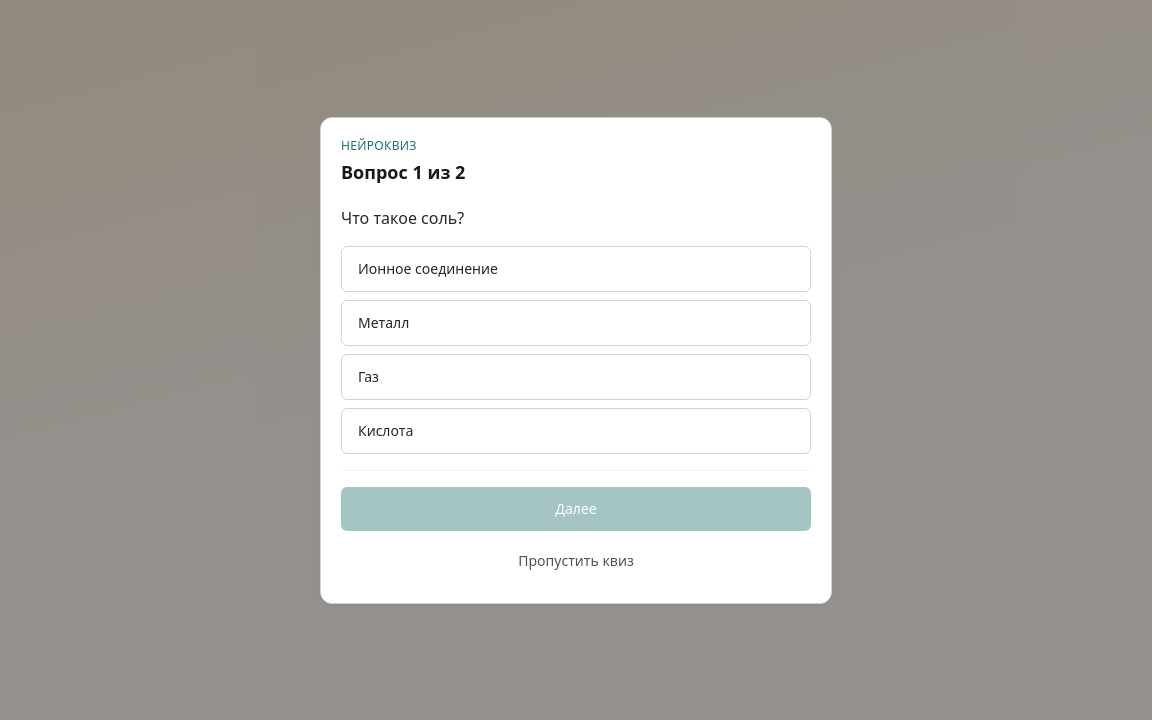
Scenario: NeuroQuizOverlay › shows correct option and explanation after a wrong answer without salute
Expected: the text "Что такое соль?" is shown, [341,206,464,228]
Click the button "Металл". click: (384, 322)
box: [341,300,811,346]
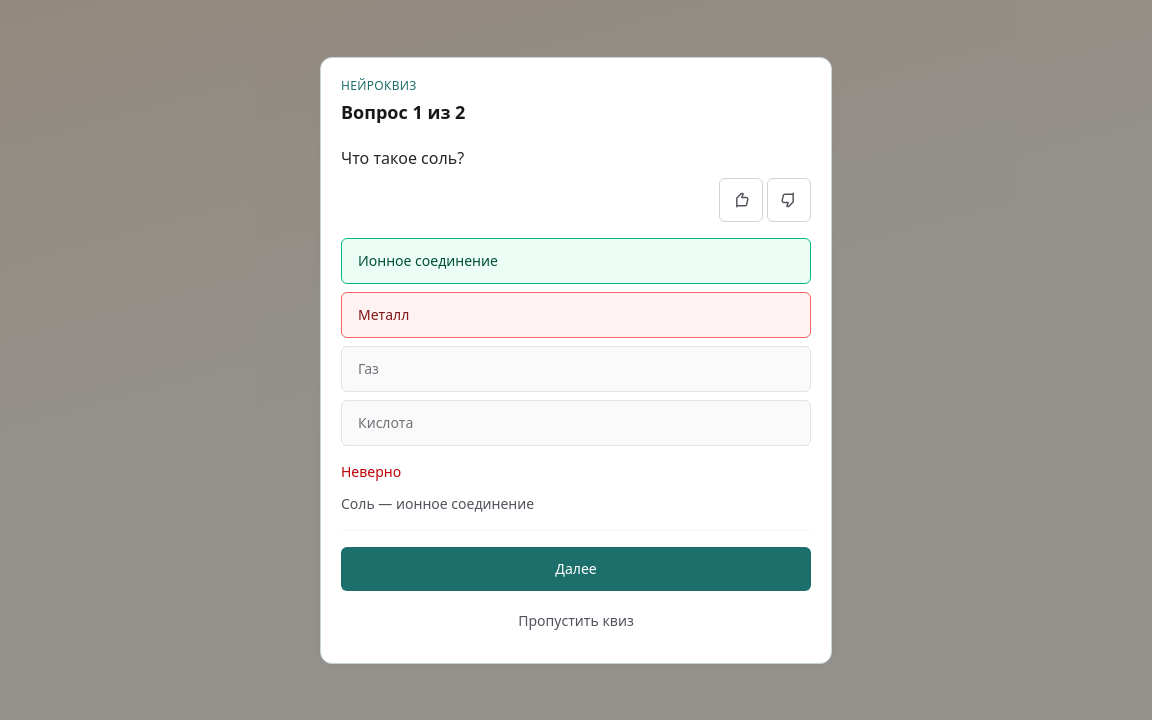
Expected: the text "Неверно" is shown, [341,462,401,480]
Expected: the text "Соль — ионное соединение" is shown, [341,494,534,512]
Expected: the button "Ионное соединение" is disabled, [341,238,811,284]
